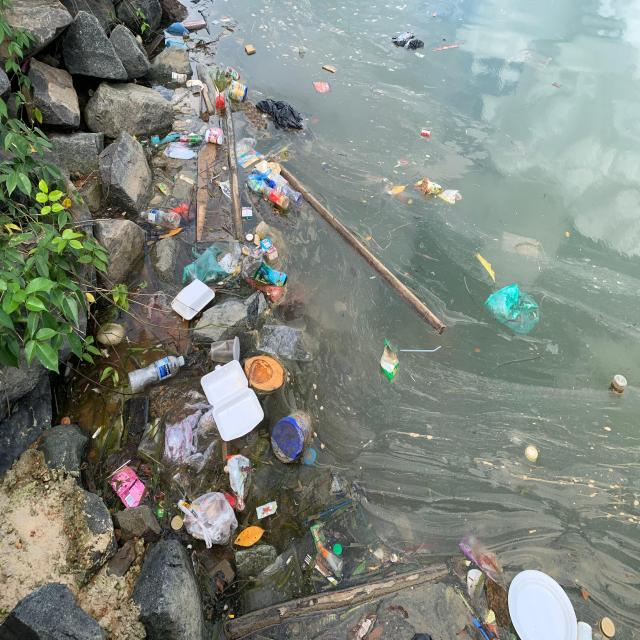Bungkus Makanan: (202, 359, 267, 443), (172, 281, 217, 321), (227, 454, 255, 511), (378, 338, 403, 384), (254, 261, 289, 291), (310, 522, 329, 552), (439, 186, 464, 207), (257, 500, 279, 521), (312, 80, 334, 96)
Kantong Plastik: (179, 489, 241, 549), (164, 415, 212, 471), (258, 324, 320, 363), (182, 245, 230, 285), (257, 98, 310, 134), (248, 169, 274, 196)
